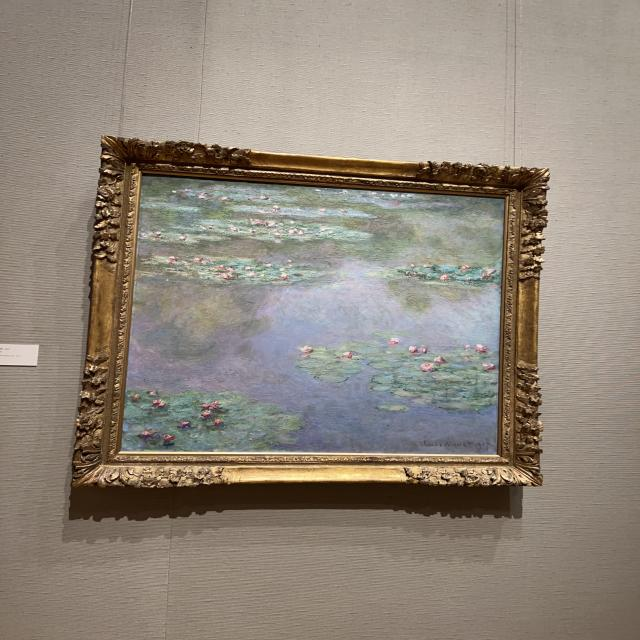lilies: (122, 174, 505, 455)
